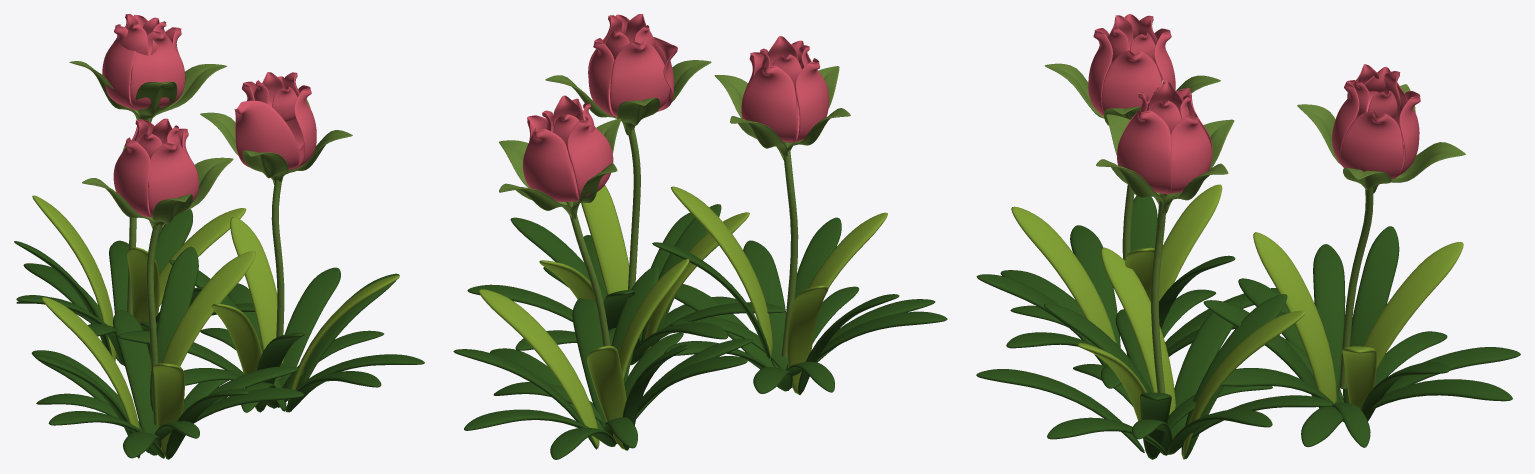
Rendered from flores2_VIVAS_2.fbx.
3 views of the same model, side by side, from view 1: azimuth 30°, elevation 25°; view 2: azimuth 150°, elevation 25°; view 3: azimuth 270°, elevation 25° (orthographic). The views are drawn at different scales.
Visible parts, largest first — view 1: Cubo.257, Plano.032, Cubo.318, Cubo.269, Plano.042, Cubo.265, Plano.002, Cubo.311, Cubo.255, Cubo.344, Plano.001, Cubo.256 (+45 smaller); view 2: Cubo.342, Plano, Plano.031, Cubo.319, Plano.040, Cubo.257, Plano.041, Cubo.255, Cubo.344, Cubo.264, Plano.001, Cubo.335 (+48 smaller); view 3: Cubo.343, Cubo.344, Cubo.256, Cubo.320, Plano.033, Cubo.332, Plano.043, Cubo.333, Cubo.255, Cubo.310, Plano.003, Plano.034 (+47 smaller).
Boxes of the visible parts, left/top/right/bottom form: Cubo.257: left=162, top=251, right=255, bottom=366; Plano.032: left=234, top=100, right=299, bottom=169; Cubo.318: left=230, top=217, right=283, bottom=363; Cubo.269: left=150, top=246, right=198, bottom=411; Plano.042: left=130, top=30, right=185, bottom=110; Cubo.265: left=113, top=310, right=157, bottom=434; Plano.002: left=148, top=140, right=198, bottom=216; Cubo.311: left=278, top=267, right=340, bottom=387; Cubo.255: left=41, top=297, right=140, bottom=455; Cubo.344: left=32, top=195, right=116, bottom=361; Plano.001: left=113, top=137, right=151, bottom=217; Cubo.256: left=153, top=363, right=184, bottom=457; Cubo.342: left=478, top=289, right=599, bottom=448; Plano: left=741, top=63, right=797, bottom=142; Plano.031: left=610, top=39, right=670, bottom=116; Cubo.319: left=581, top=185, right=629, bottom=295; Plano.040: left=523, top=128, right=578, bottom=201; Cubo.257: left=671, top=186, right=772, bottom=358; Plano.041: left=567, top=116, right=613, bottom=201; Cubo.255: left=787, top=285, right=828, bottom=394; Cubo.344: left=587, top=346, right=626, bottom=449; Cubo.264: left=743, top=240, right=787, bottom=369; Plano.001: left=787, top=58, right=829, bottom=142; Cubo.335: left=572, top=298, right=606, bottom=430; Cubo.343: left=1253, top=232, right=1336, bottom=403; Cubo.344: left=1347, top=242, right=1463, bottom=402; Cubo.256: left=1011, top=206, right=1116, bottom=343; Cubo.320: left=1101, top=247, right=1175, bottom=415; Plano.033: left=1117, top=108, right=1172, bottom=193; Cubo.332: left=1343, top=226, right=1399, bottom=402; Plano.043: left=1340, top=111, right=1403, bottom=179; Cubo.333: left=1313, top=244, right=1345, bottom=392; Cubo.255: left=1159, top=184, right=1222, bottom=301; Cubo.310: left=1171, top=300, right=1240, bottom=439; Plano.003: left=1101, top=50, right=1162, bottom=115; Plano.034: left=1162, top=114, right=1212, bottom=194.
Size of the model in its own units: 793 by 658 by 884.
